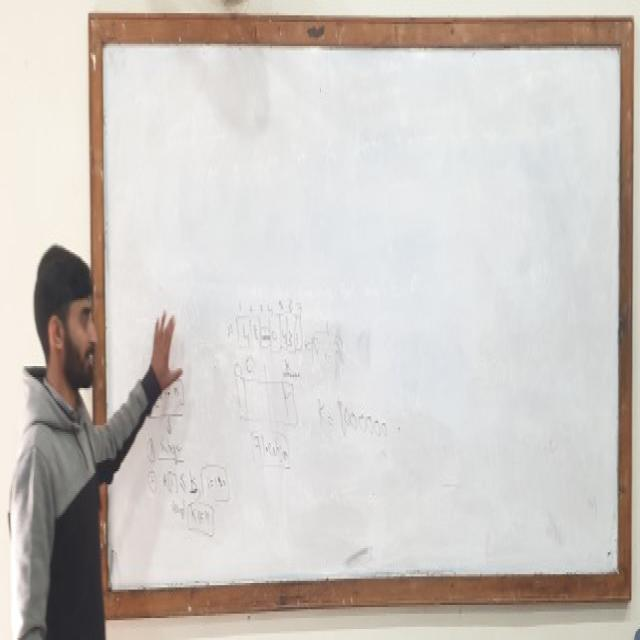Instructor: (14, 222, 108, 640)
White-board: (98, 26, 629, 604)
